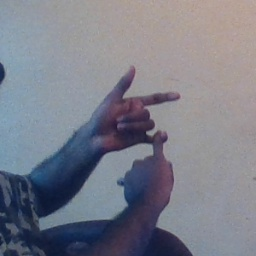S: (78, 59, 193, 204)
